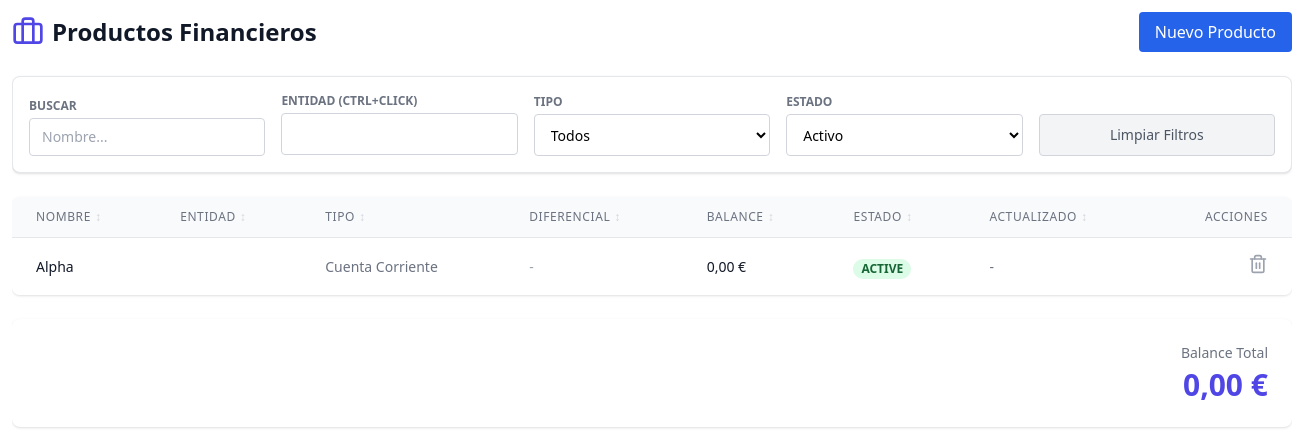
Test: ProductsPage › displays "No results found" when filter matches nothing
The image size is (1292, 445).
Expected: the text "Alpha" is shown, [12,238,156,295]
Type "Z" into the field with placeholder "Nombre..." at (147, 137), box [29,118,265,156]
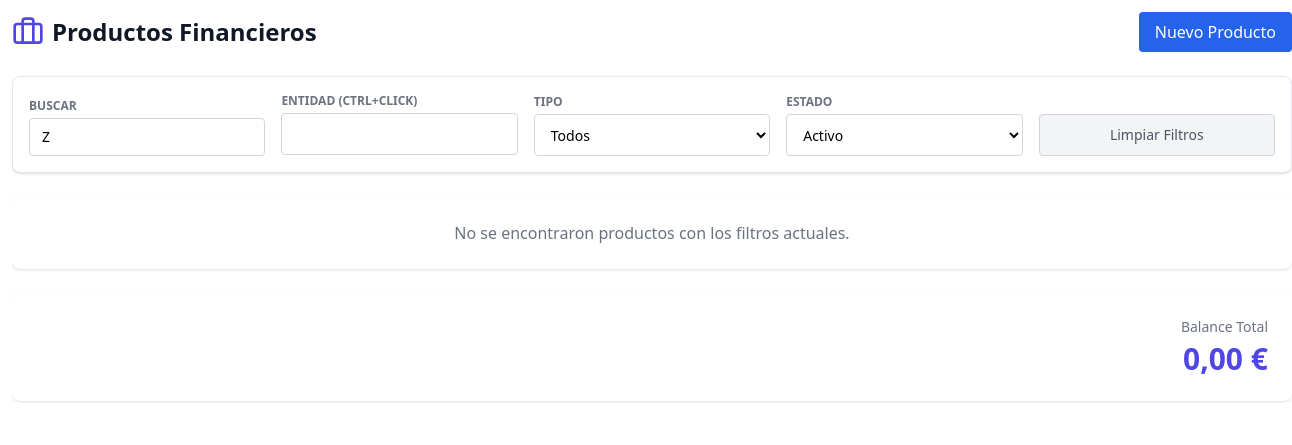
Expected: the text "No se encontraron productos con los filtros actuales." is shown, [454,222,850,244]
